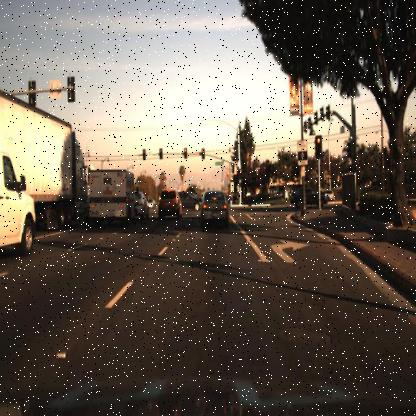car: (0, 147, 37, 258), (84, 163, 137, 229), (197, 184, 234, 232), (285, 179, 325, 211), (154, 178, 182, 223), (176, 190, 203, 208), (179, 190, 202, 210), (324, 180, 341, 204), (134, 190, 148, 218), (147, 193, 156, 212)
trafficLight-Red: (314, 132, 324, 148), (198, 141, 206, 156), (138, 144, 146, 158), (141, 147, 147, 162), (157, 145, 164, 157), (199, 148, 206, 160), (182, 144, 188, 157), (182, 146, 188, 158), (159, 146, 164, 158), (237, 164, 242, 176)
truck: (18, 113, 97, 235)
